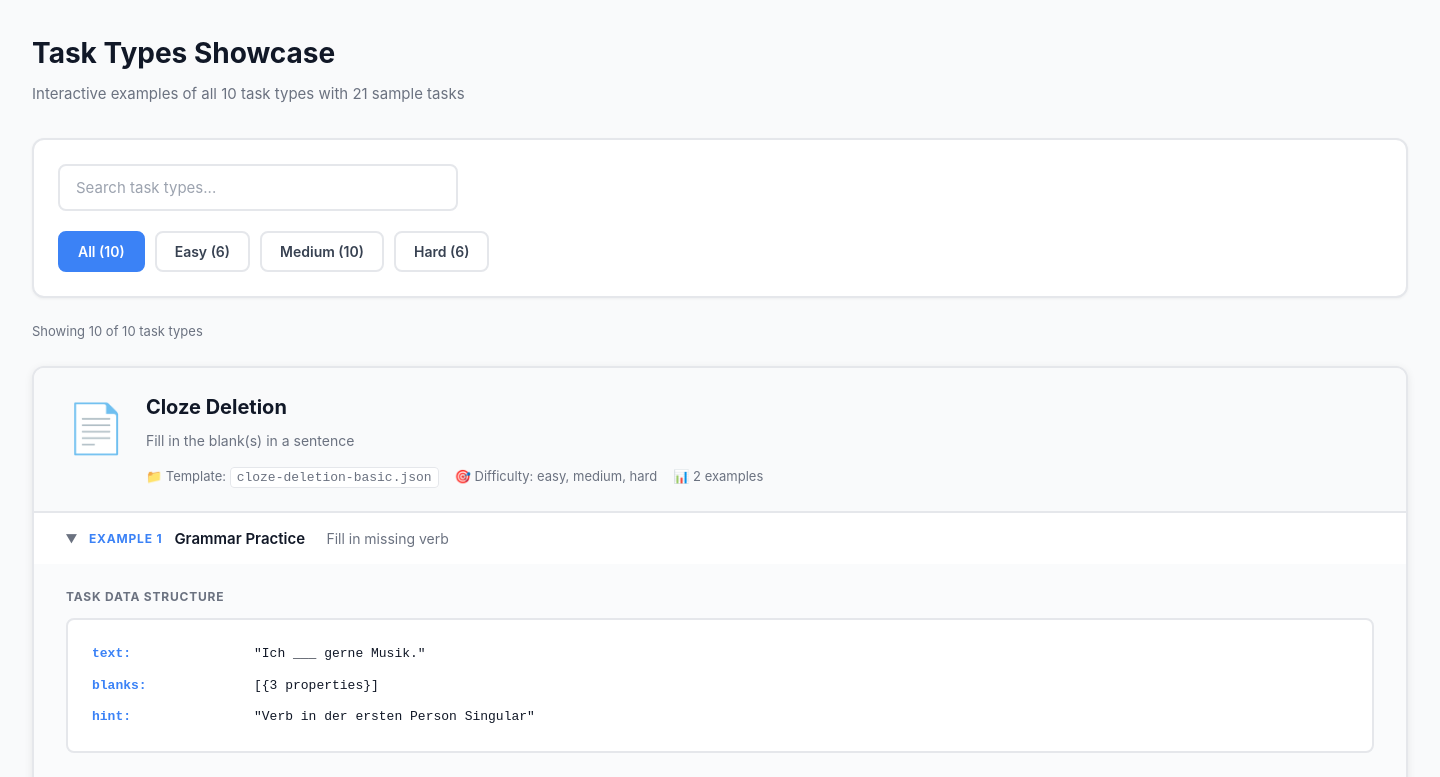
Test case: TaskTypesShowcase › Difficulty Filtering › should filter by hard difficulty
This screenshot has width=1440, height=777.
Click the button "Hard (6)".
click(442, 252)  # box [394, 231, 489, 272]
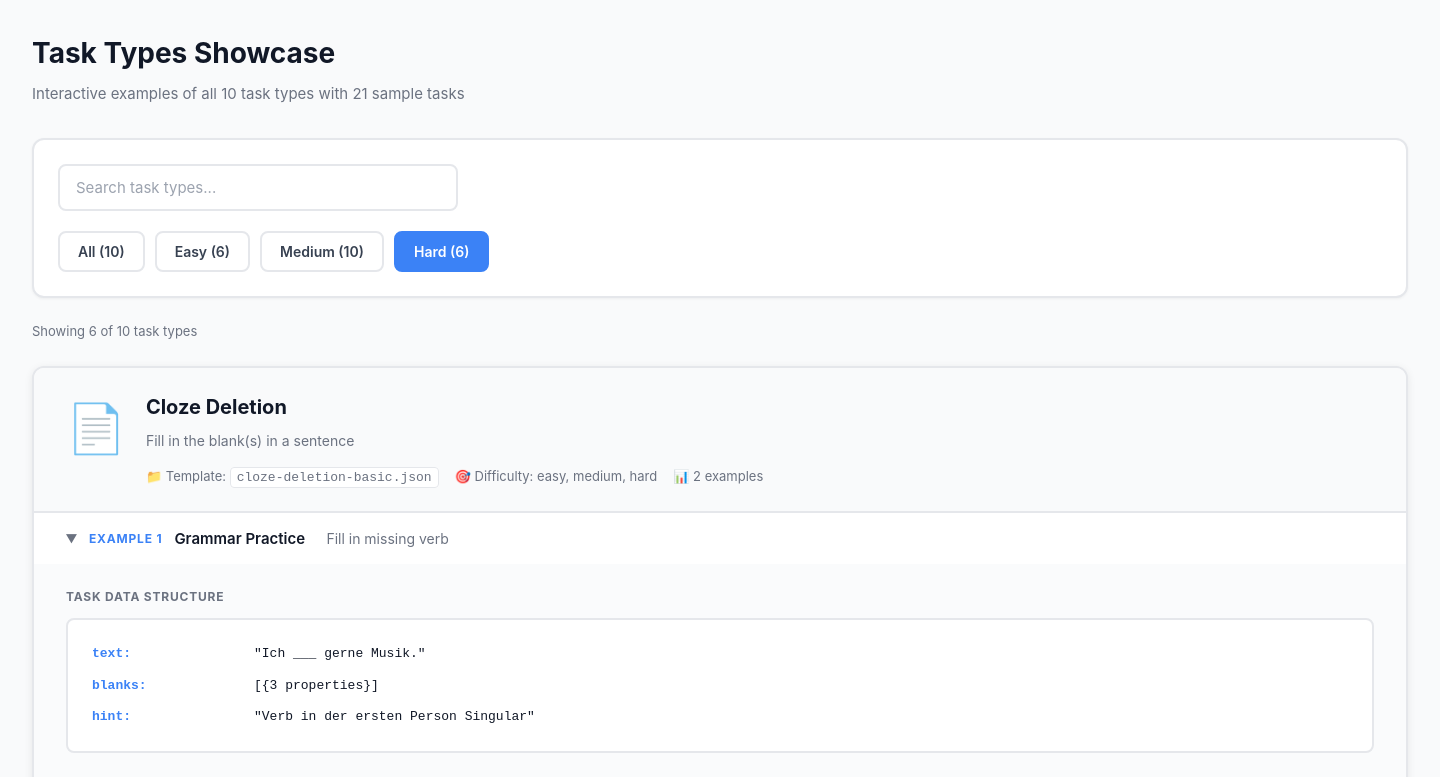
Now the text "Showing 6 of 10 task types" is shown, box [32, 323, 197, 339]
